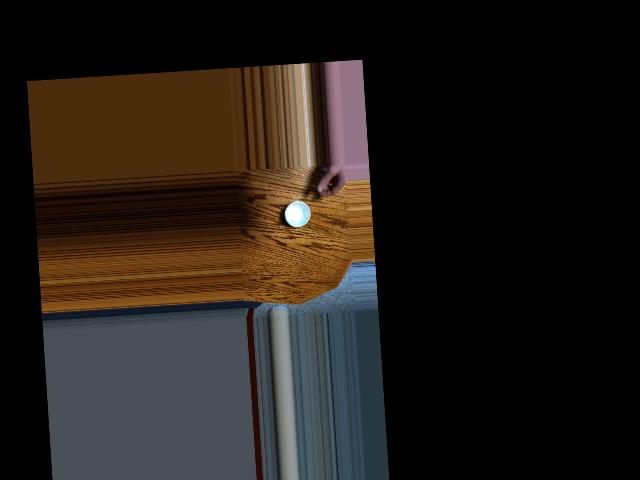cotage: (284, 195, 314, 230)
